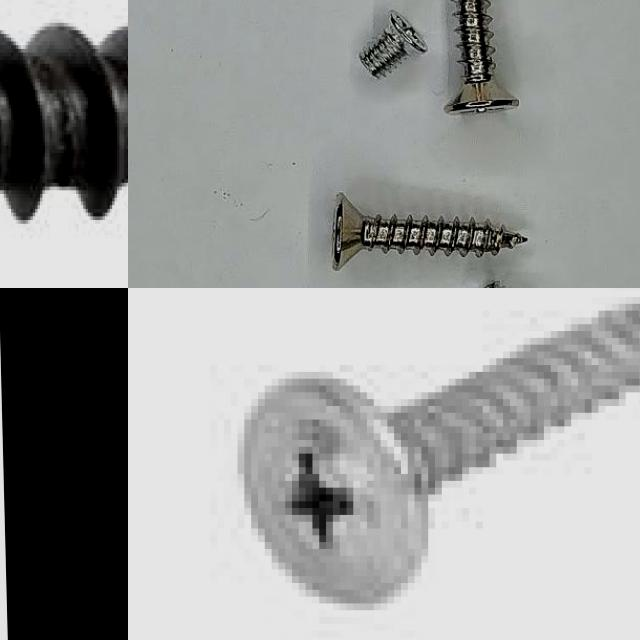Screw: (238, 299, 640, 603), (0, 23, 128, 224), (332, 194, 527, 270), (446, 0, 520, 114), (360, 11, 428, 78)
